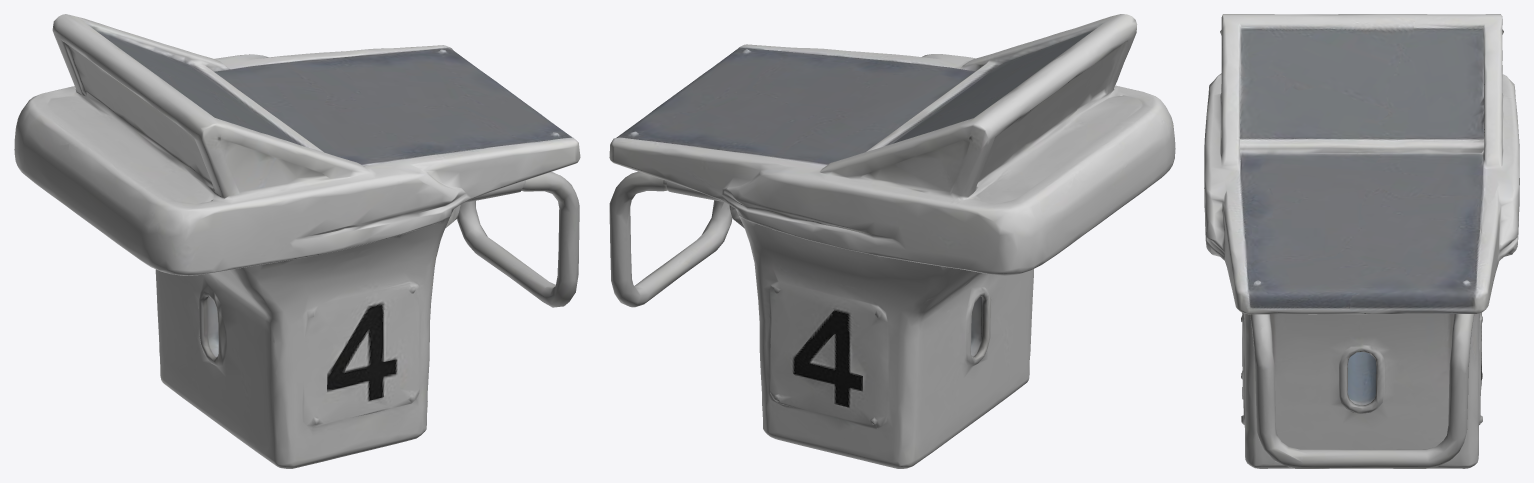
File: gen-starting-block.glb
3 renders of one model, left to right at view 1: azimuth 30°, elevation 25°; view 2: azimuth 150°, elevation 25°; view 3: azimuth 270°, elevation 25°, orthographic. The views are drawn at different scales.
Visible parts, largest first — view 1: tripo_node_3d5dda18-837c-4b1a-b760-75620132c0c9; view 2: tripo_node_3d5dda18-837c-4b1a-b760-75620132c0c9; view 3: tripo_node_3d5dda18-837c-4b1a-b760-75620132c0c9.
Part boxes in pixels (x1,y1,x2,y2): tripo_node_3d5dda18-837c-4b1a-b760-75620132c0c9: [14, 14, 580, 468]; tripo_node_3d5dda18-837c-4b1a-b760-75620132c0c9: [609, 14, 1175, 468]; tripo_node_3d5dda18-837c-4b1a-b760-75620132c0c9: [1204, 14, 1519, 468].
Size of the model in its own units: 1 by 0.8189 by 0.6624.
Materials: 1 (1 with a texture image).
